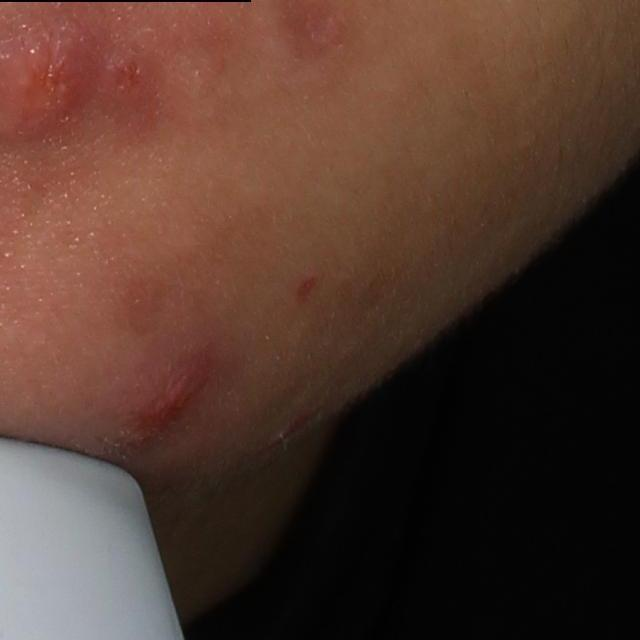papule: (118, 355, 215, 452)
